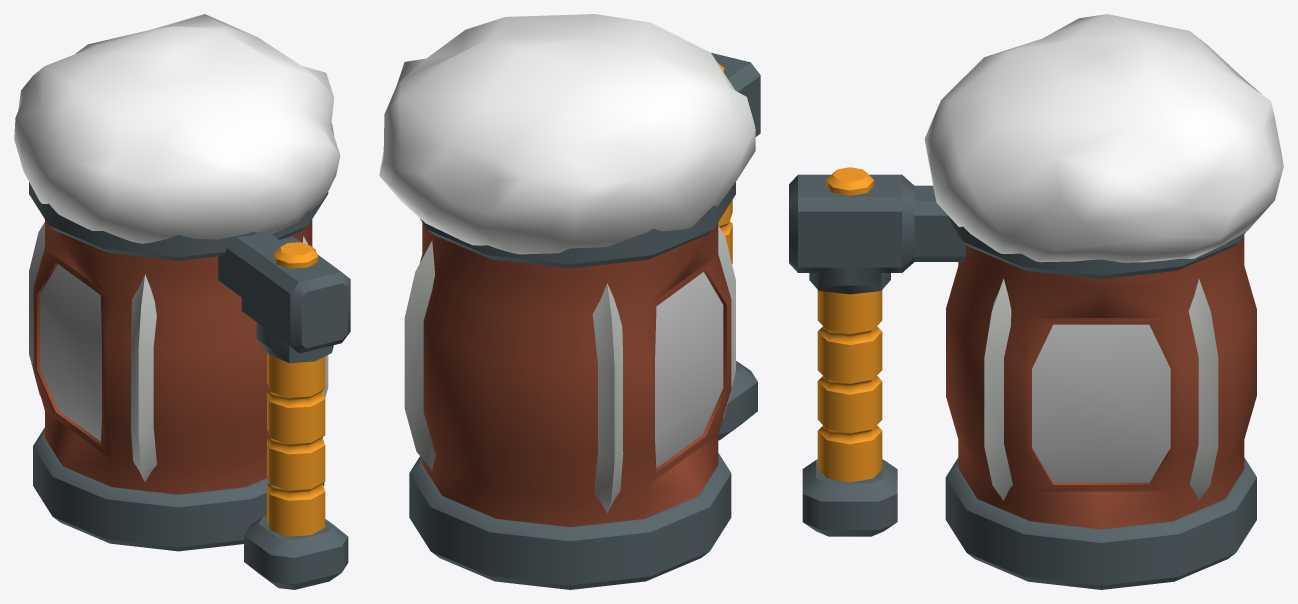
Rendered from fant_met.obj.
The picture shows the model from 3 angles, left to right: view 1: azimuth 30°, elevation 25°; view 2: azimuth 150°, elevation 25°; view 3: azimuth 270°, elevation 25°; orthographic projection. The views are drawn at different scales.
Visible parts, largest first — view 1: fant_met_Cylinder; view 2: fant_met_Cylinder; view 3: fant_met_Cylinder.
Part boxes in pixels (x1,y1,x2,y2): fant_met_Cylinder: (14, 14, 350, 589); fant_met_Cylinder: (379, 14, 760, 589); fant_met_Cylinder: (789, 14, 1283, 589).
Size of the model in its own units: 2.27 by 3.31 by 3.12.
